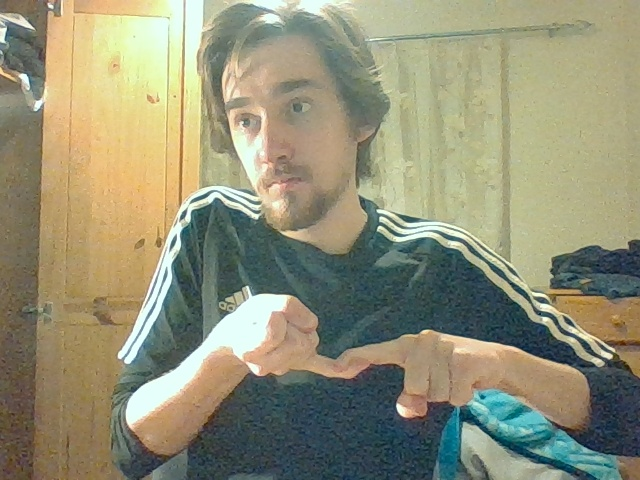step: (244, 292, 474, 417)
